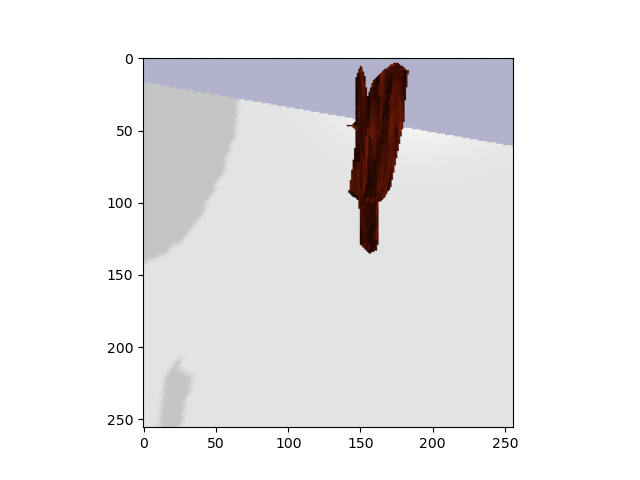v249b387_107: (342, 62, 407, 262)
